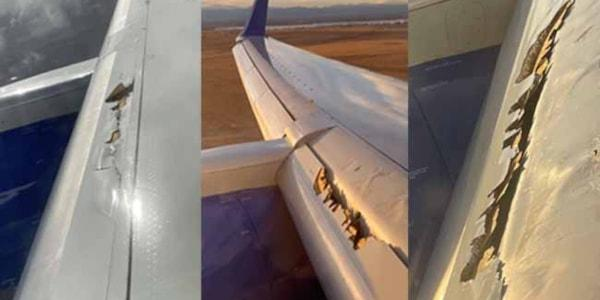Fuselage_damage: (445, 12, 571, 289), (293, 157, 389, 258), (86, 72, 156, 192)
